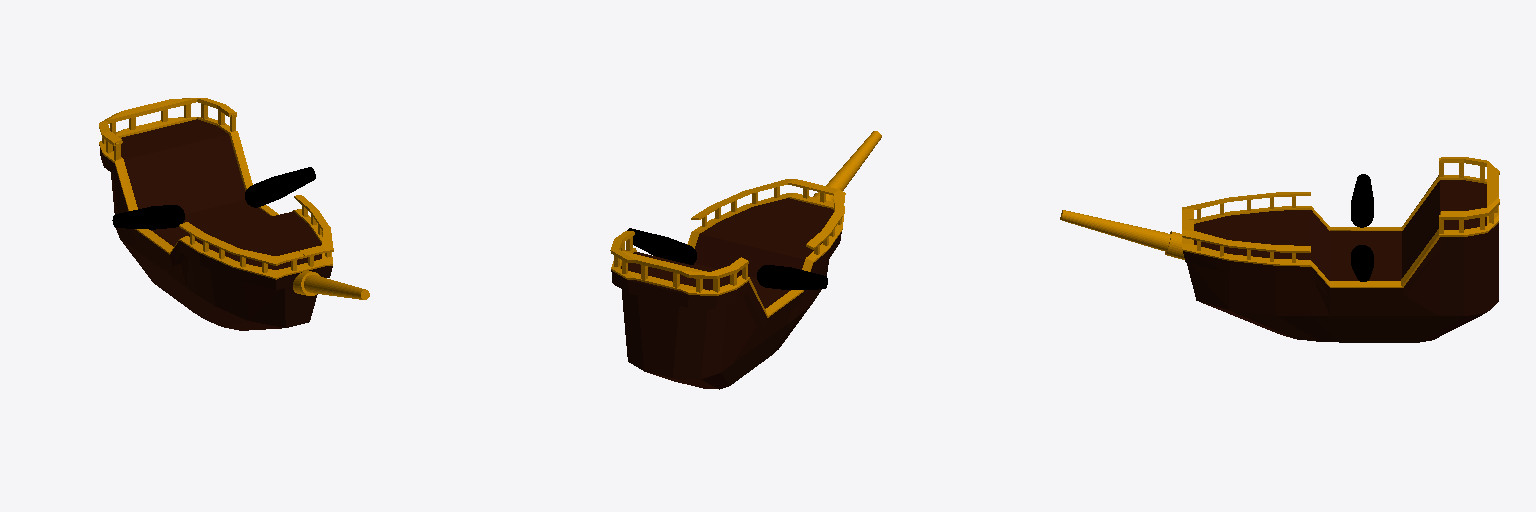
File: allShip.obj
The picture shows the model from 3 angles: view 1: azimuth 30°, elevation 25°; view 2: azimuth 150°, elevation 25°; view 3: azimuth 270°, elevation 25°; orthographic projection.
Visible parts, largest first — view 1: Plane.001, Plane, Cylinder; view 2: Plane.001, Plane, Cylinder; view 3: Plane.001, Plane, Cylinder.
Part boxes in pixels (left/top/right/bottom): Plane.001: left=99, top=119, right=332, bottom=330; Plane: left=99, top=98, right=369, bottom=299; Cylinder: left=112, top=167, right=315, bottom=229; Plane.001: left=611, top=198, right=841, bottom=389; Plane: left=610, top=131, right=881, bottom=317; Cylinder: left=627, top=228, right=827, bottom=289; Plane.001: left=1183, top=180, right=1498, bottom=342; Plane: left=1060, top=157, right=1499, bottom=287; Cylinder: left=1351, top=174, right=1373, bottom=281.
Size of the model in its own units: 9.76 by 6.66 by 18.75.